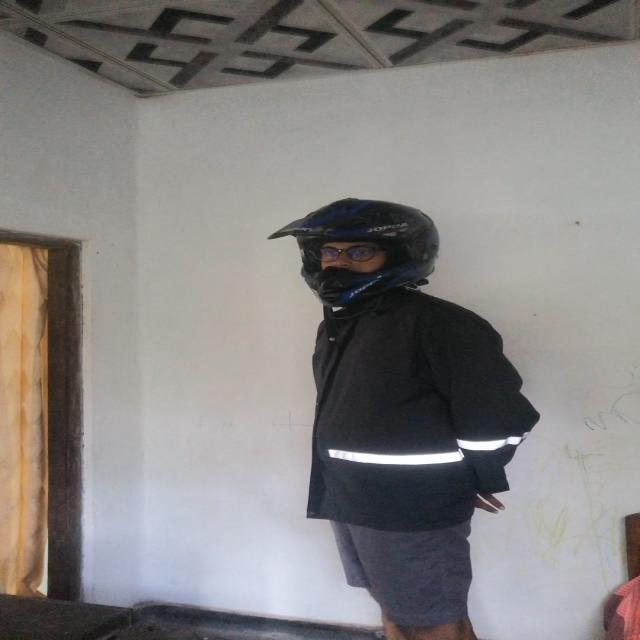Helmet_Wearer: (284, 192, 460, 308)
Jacket_Wearer: (311, 280, 544, 541)
Person: (272, 181, 534, 640)
